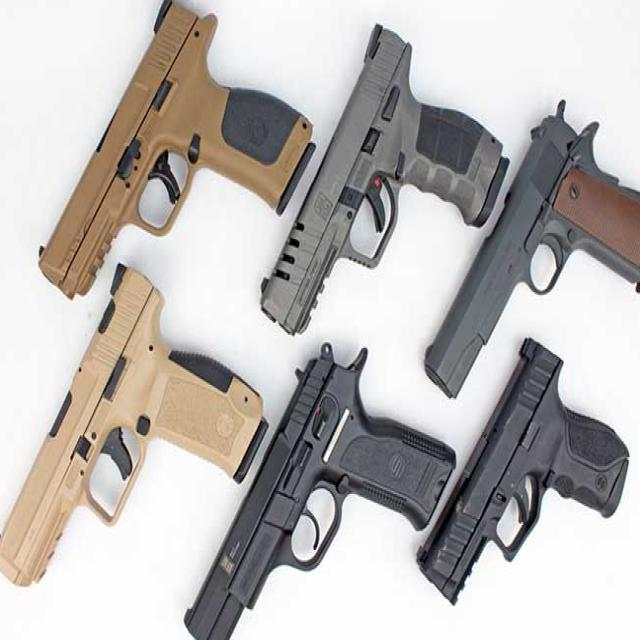Weapon: (0, 265, 266, 585), (40, 0, 313, 296), (185, 344, 454, 640), (261, 25, 507, 333), (426, 100, 640, 397), (419, 338, 628, 603)
